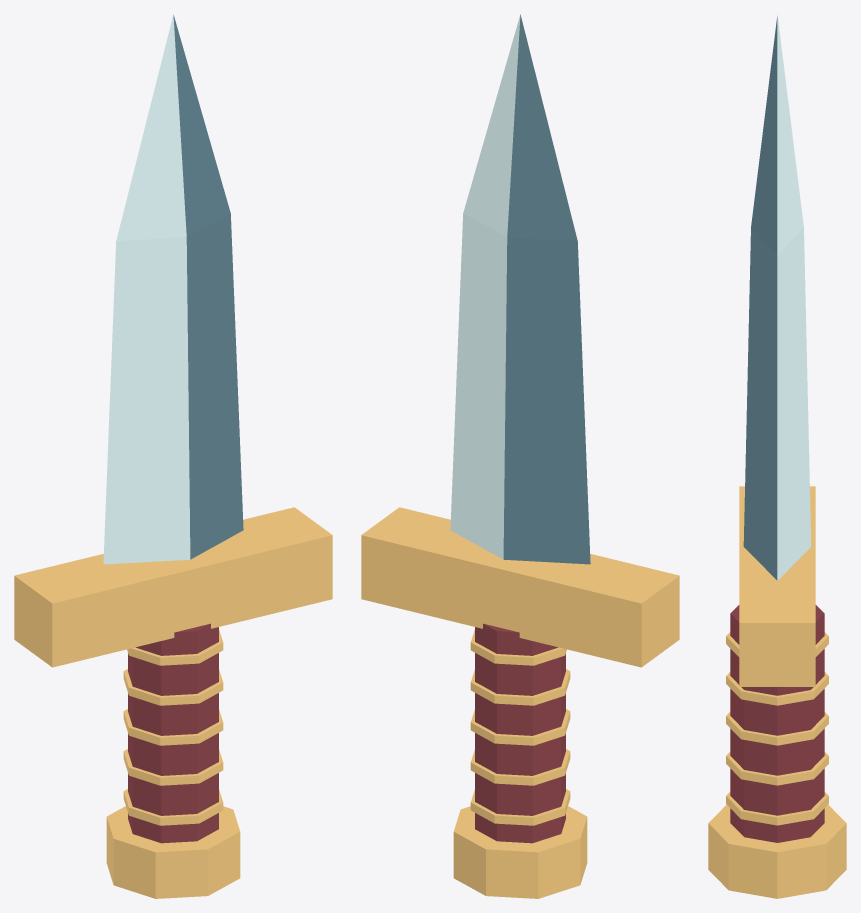
3 renders of one model, left to right at view 1: azimuth 30°, elevation 25°; view 2: azimuth 150°, elevation 25°; view 3: azimuth 270°, elevation 25°, orthographic.
Visible parts, largest first — view 1: Adventurer dagger; view 2: Adventurer dagger; view 3: Adventurer dagger.
Boxes of the visible parts, left/top/right/bottom form: Adventurer dagger: left=14, top=14, right=332, bottom=898; Adventurer dagger: left=361, top=14, right=679, bottom=898; Adventurer dagger: left=708, top=14, right=846, bottom=898.
Bounding box in the file's own units: 0.22 × 0.6425 × 0.094.
